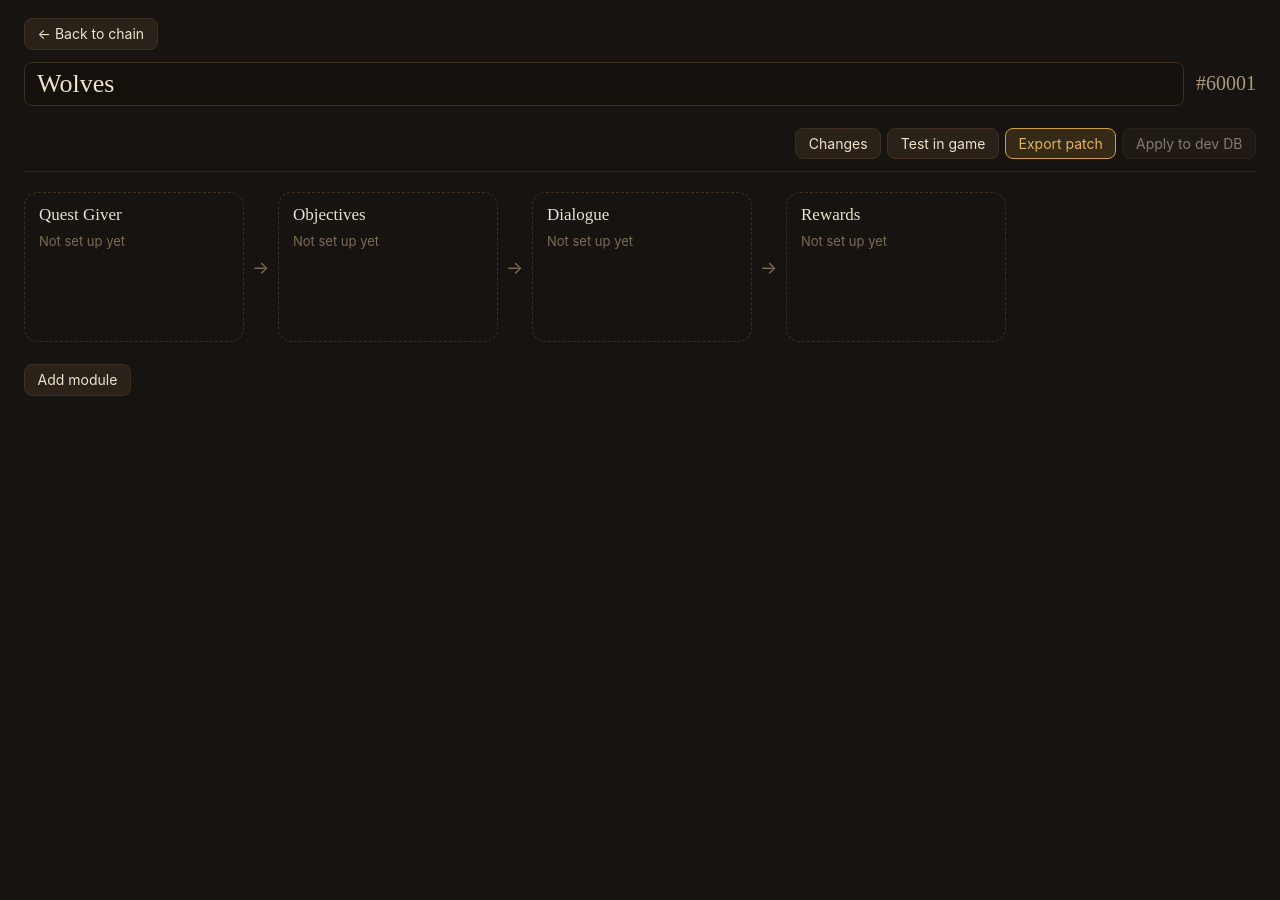
Test: locale notice › stays quiet for a quest that has no locale rows at all
Step 1. Click the button "Dialogue Not set up yet" → (642,267), box [532,192,752,342]
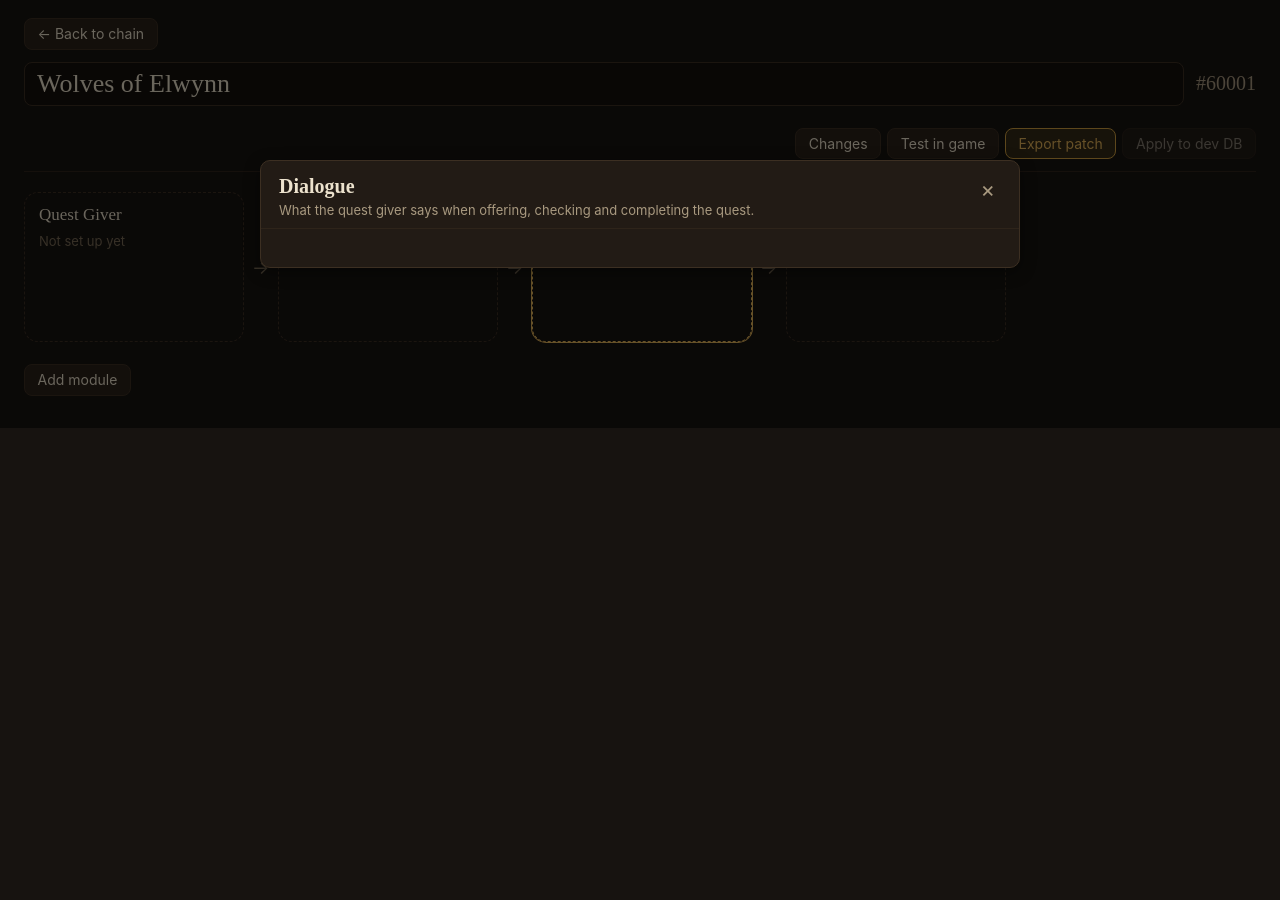
Check: the field named "Quest title" holds "Wolves of Elwynn", box [24,62,1184,106]
